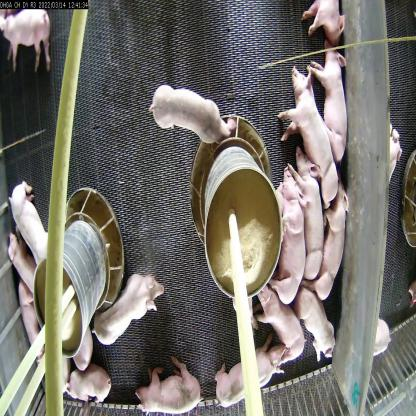Pig: (284, 70, 340, 202), (146, 76, 238, 154), (260, 171, 306, 307), (93, 277, 174, 349), (305, 46, 352, 168), (206, 348, 284, 415), (290, 155, 330, 279), (249, 286, 307, 368), (0, 0, 57, 75), (311, 194, 350, 289), (47, 354, 113, 407), (136, 363, 202, 416), (300, 283, 340, 368), (10, 173, 44, 267), (0, 229, 38, 312)
